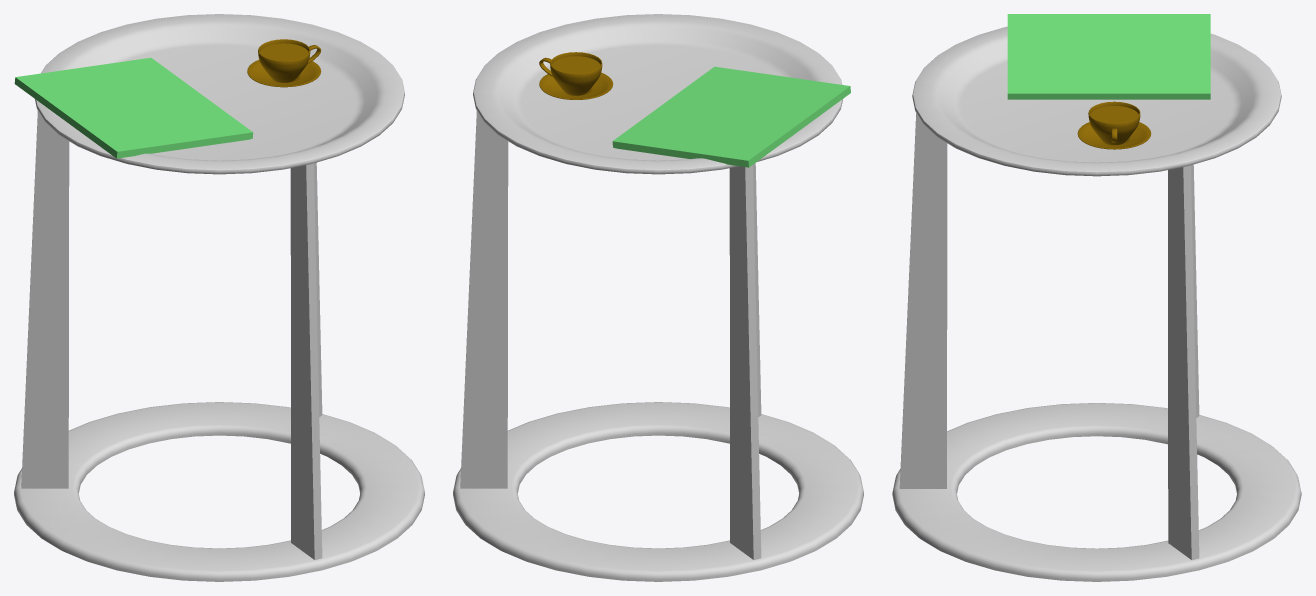
The model's file is Coffee_table.fbx.
3 renders of one model, left to right at view 1: azimuth 30°, elevation 25°; view 2: azimuth 150°, elevation 25°; view 3: azimuth 270°, elevation 25°, orthographic.
Parts seen in each view (by area): view 1: Coffee_Table, Magazine, Coffee_cup1, Coffee_cup_plate; view 2: Coffee_Table, Magazine, Coffee_cup1, Coffee_cup_plate; view 3: Coffee_Table, Magazine, Coffee_cup1, Coffee_cup_plate.
Part boxes in pixels (x1,y1,x2,y2): Coffee_Table: [14, 14, 424, 581]; Magazine: [14, 57, 253, 158]; Coffee_cup1: [258, 39, 321, 82]; Coffee_cup_plate: [247, 60, 321, 87]; Coffee_Table: [453, 14, 863, 581]; Magazine: [612, 66, 850, 167]; Coffee_cup1: [539, 52, 602, 95]; Coffee_cup_plate: [539, 72, 613, 99]; Coffee_Table: [892, 26, 1301, 581]; Magazine: [1007, 14, 1210, 99]; Coffee_cup1: [1088, 101, 1140, 145]; Coffee_cup_plate: [1077, 122, 1151, 149].
Size of the model in its own units: 55.38 by 62.54 by 55.38.
